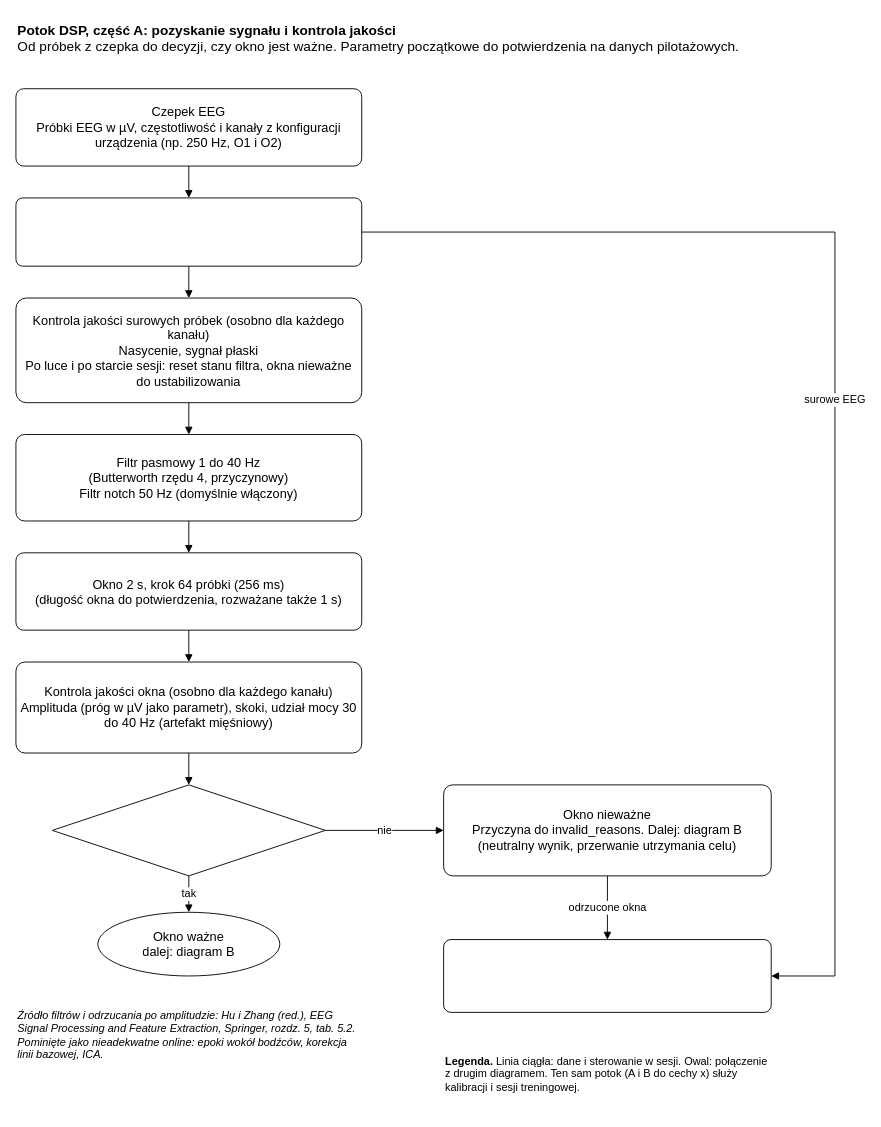
Some shapes in this 881 by 1127 pixel diagram are drawn without their labels. Each missing label, with the centre of its shape:
"Bufor i znaczniki czasu Wykrycie luki w ciągłości (utrata pakietów, przerwa)" goes at point (188, 231).
"Okno ważne? (oba kanały przechodzą wszystkie kontrole)" goes at point (188, 830).
"Zapis: surowe EEG do pliku zawsze, odrzucone okna i ich przyczyny do bazy" goes at point (607, 975).
